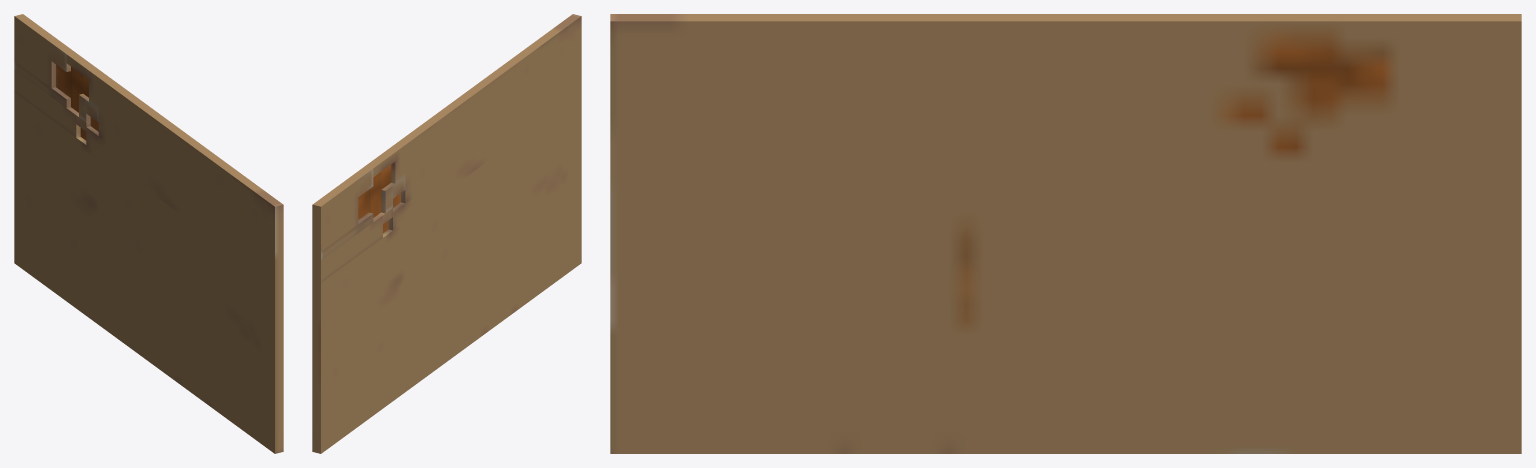
The model's file is WallBackSlightlyDamaged_01.fbx.
3 renders of one model, left to right at view 1: azimuth 30°, elevation 25°; view 2: azimuth 150°, elevation 25°; view 3: azimuth 270°, elevation 25°, orthographic. The views are drawn at different scales.
Parts seen in each view (by area): view 1: WallBackSlightlyDamaged_01; view 2: WallBackSlightlyDamaged_01; view 3: WallBackSlightlyDamaged_01.
Boxes of the visible parts, left/top/right/bottom form: WallBackSlightlyDamaged_01: left=14, top=14, right=283, bottom=453; WallBackSlightlyDamaged_01: left=312, top=14, right=581, bottom=453; WallBackSlightlyDamaged_01: left=610, top=14, right=1521, bottom=453.
Size of the model in its own units: 10 by 525 by 275.
Materials: 1 (1 with a texture image).
